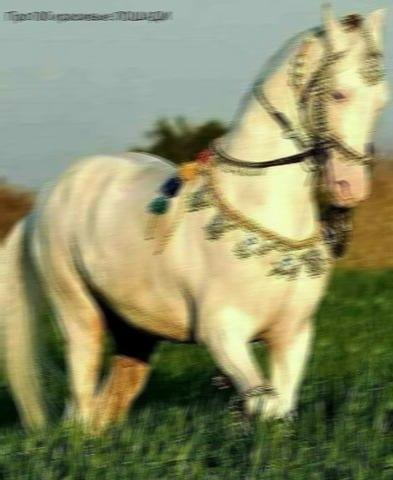horse: (0, 1, 389, 444)
